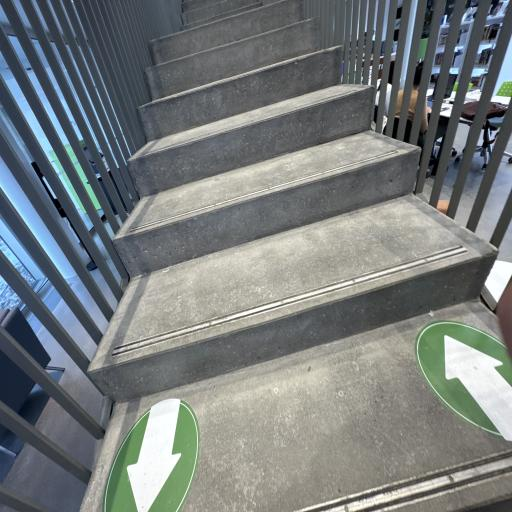Stairs: (81, 0, 512, 512), (81, 301, 512, 512), (88, 195, 497, 401), (114, 131, 419, 277), (128, 85, 373, 196), (138, 46, 341, 140), (146, 18, 320, 100), (148, 0, 304, 65), (182, 2, 263, 30), (182, 0, 256, 25)
